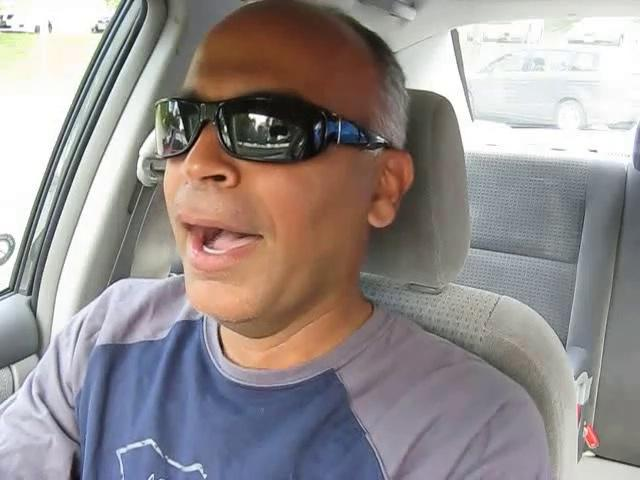yawn: (165, 206, 276, 276)
